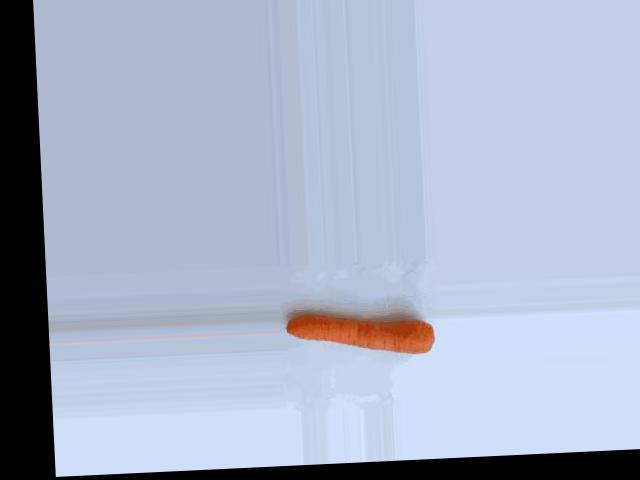carrot: (286, 307, 435, 360)
